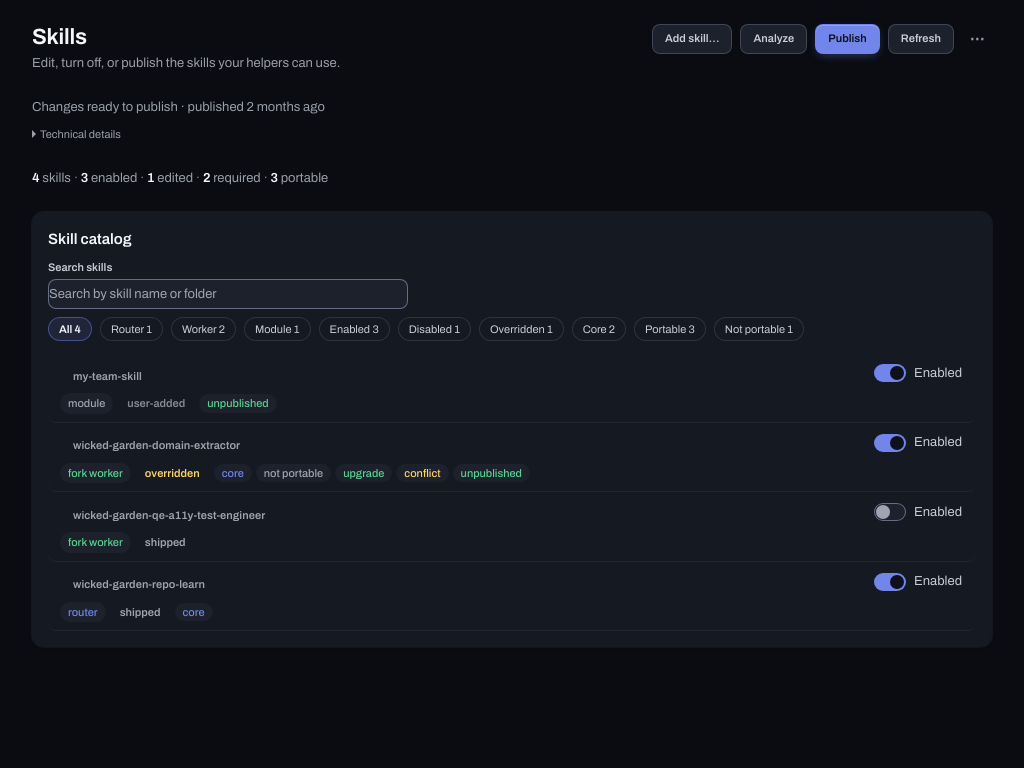
Test: SkillsPage — the row switch (enable/disable through the guards, CAS) › a 409 raises the reload prompt with the daemon’s sentence, freezes every write, and Reload re-reads the catalog
Step 1. Click the 1st switch with test id "skills-toggle" → (918, 373), box x1=872 y1=361 x2=964 y2=385
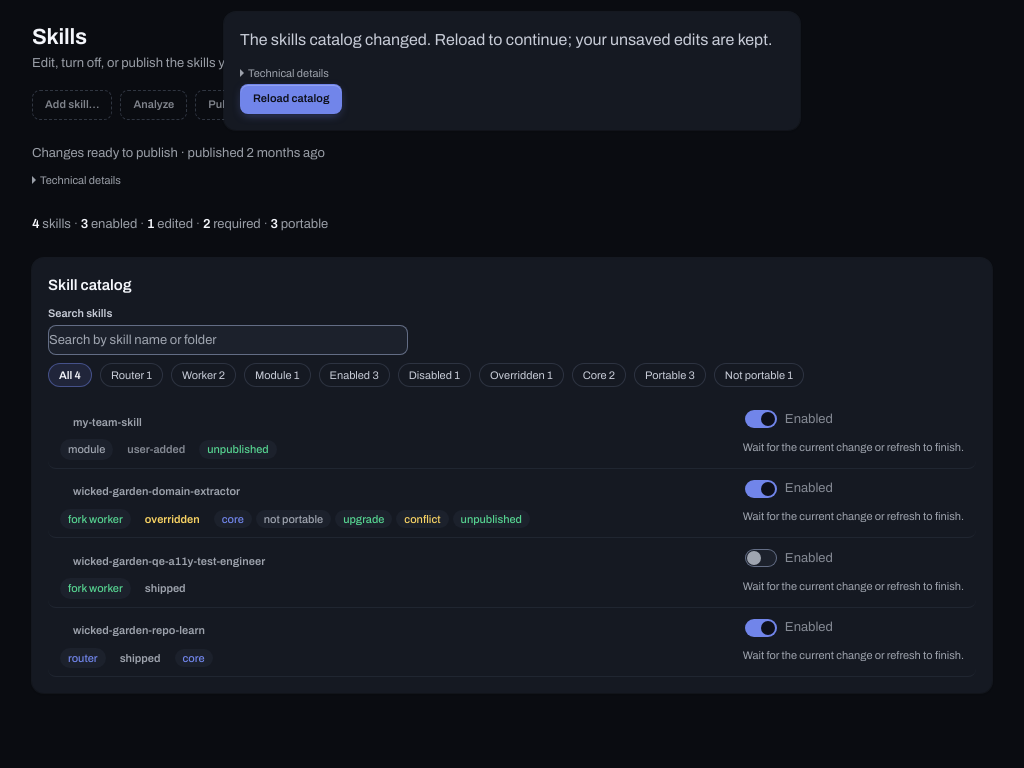
Check: the dialog with test id "skills-conflict" shows "The skills catalog changed.", box x1=240 y1=31 x2=772 y2=48
Check: the 1st switch with test id "skills-toggle" is disabled, box x1=743 y1=407 x2=835 y2=431
Check: the 2nd switch with test id "skills-toggle" is disabled, box x1=743 y1=477 x2=835 y2=501
Step 2. Click the button with test id "skills-conflict-reload" → (291, 99), box x1=240 y1=84 x2=342 y2=114
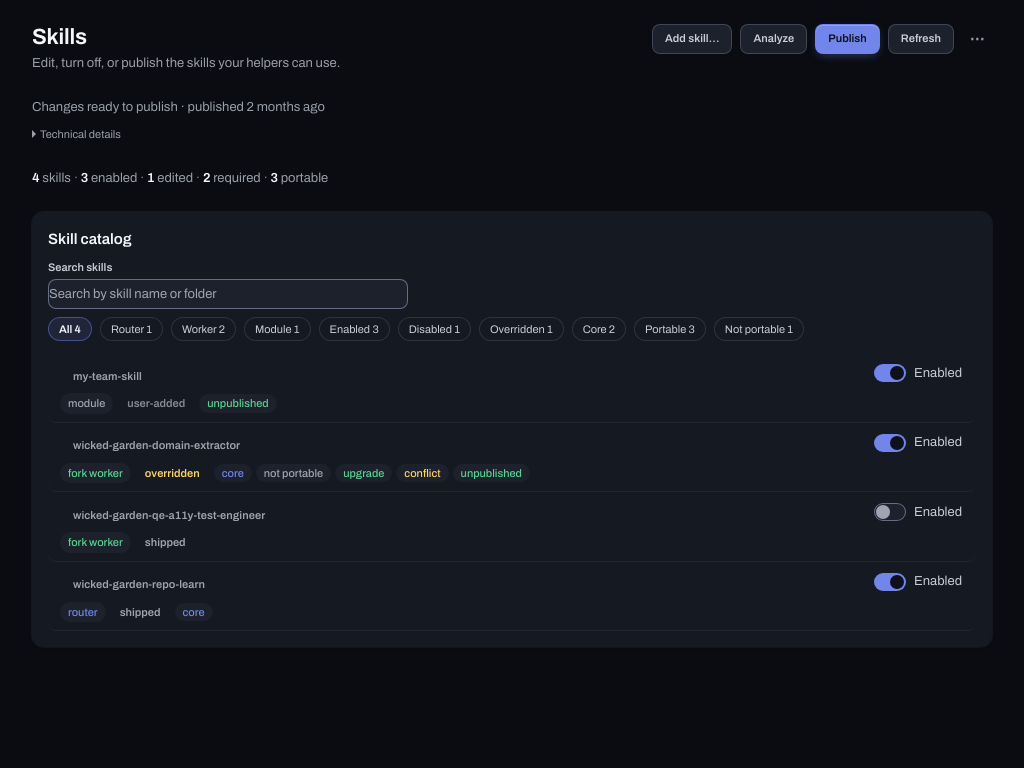
Check: the dialog with test id "skills-conflict" is gone
Check: the 1st switch with test id "skills-toggle" is enabled, box x1=872 y1=361 x2=964 y2=385
Check: the button with test id "skills-publish" is enabled, box x1=815 y1=24 x2=880 y2=54
